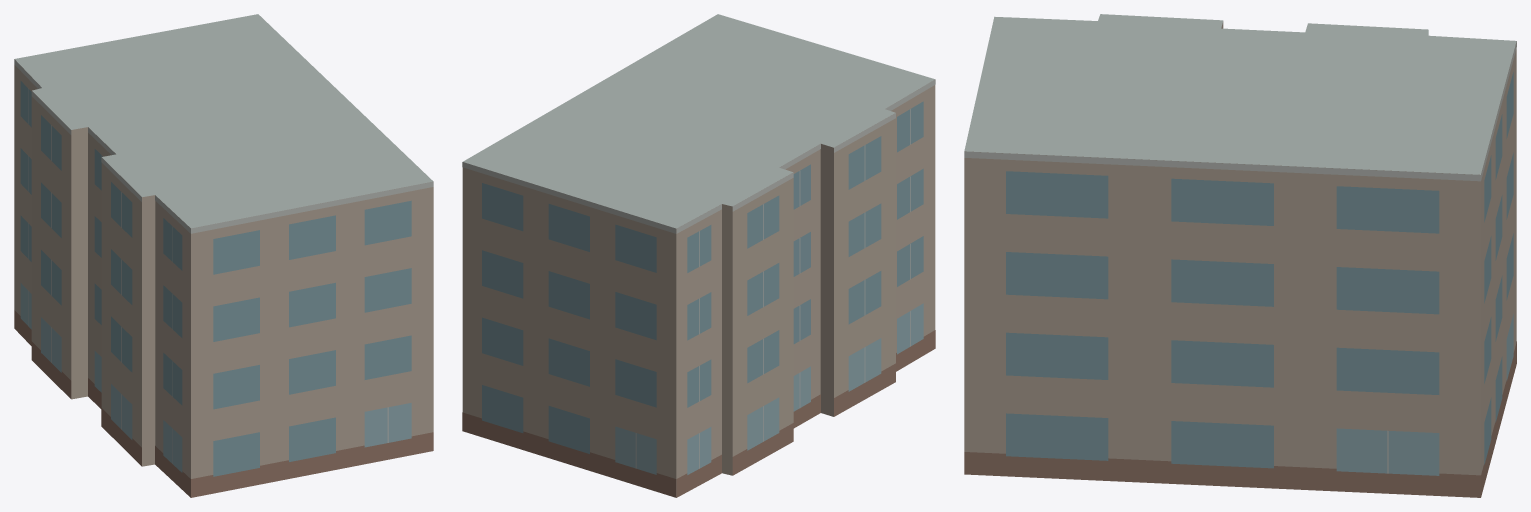
Rendered from survey-upis-32772032.glb.
The picture shows the model from 3 angles, left to right: view 1: azimuth 30°, elevation 25°; view 2: azimuth 150°, elevation 25°; view 3: azimuth 270°, elevation 25°; orthographic projection. The views are drawn at different scales.
Parts seen in each view (by area): view 1: survey-upis-32772032.tmp; view 2: survey-upis-32772032.tmp; view 3: survey-upis-32772032.tmp.
Part boxes in pixels (left/top/right/bottom): survey-upis-32772032.tmp: left=14, top=14, right=433, bottom=497; survey-upis-32772032.tmp: left=462, top=14, right=935, bottom=497; survey-upis-32772032.tmp: left=964, top=14, right=1516, bottom=497.
Size of the model in its own units: 13.03 by 12.2 by 18.92.
